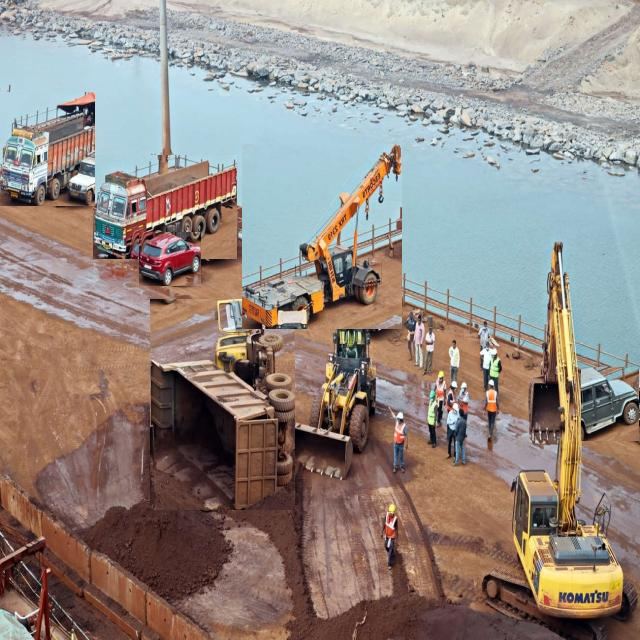accident: (150, 300, 295, 510)
car: (581, 368, 640, 441), (139, 233, 201, 286), (0, 152, 28, 204)
truck: (482, 242, 638, 619), (242, 144, 402, 329), (94, 155, 237, 259), (291, 311, 376, 478), (0, 92, 95, 206)
